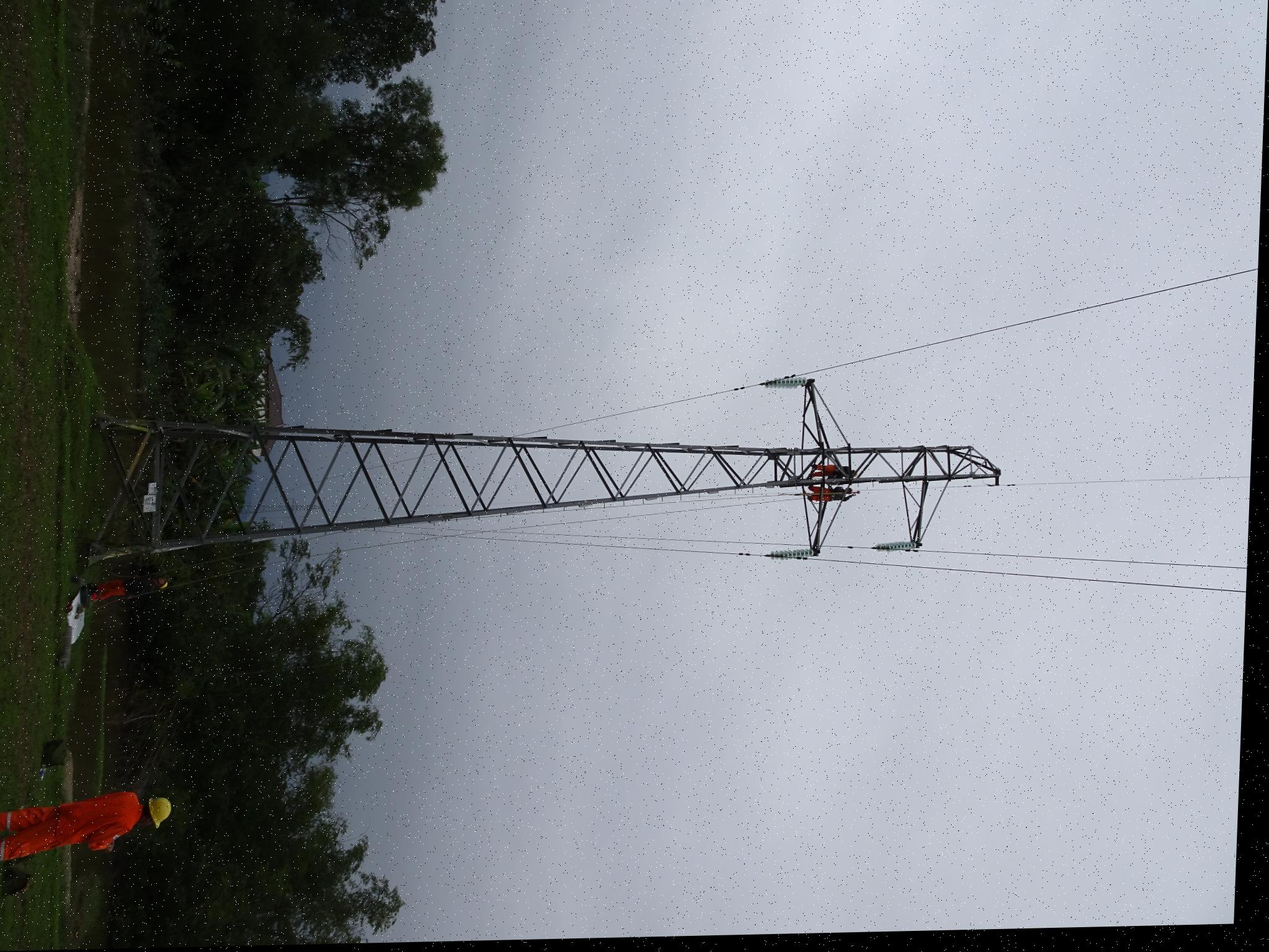tower: (664, 208, 904, 936)
